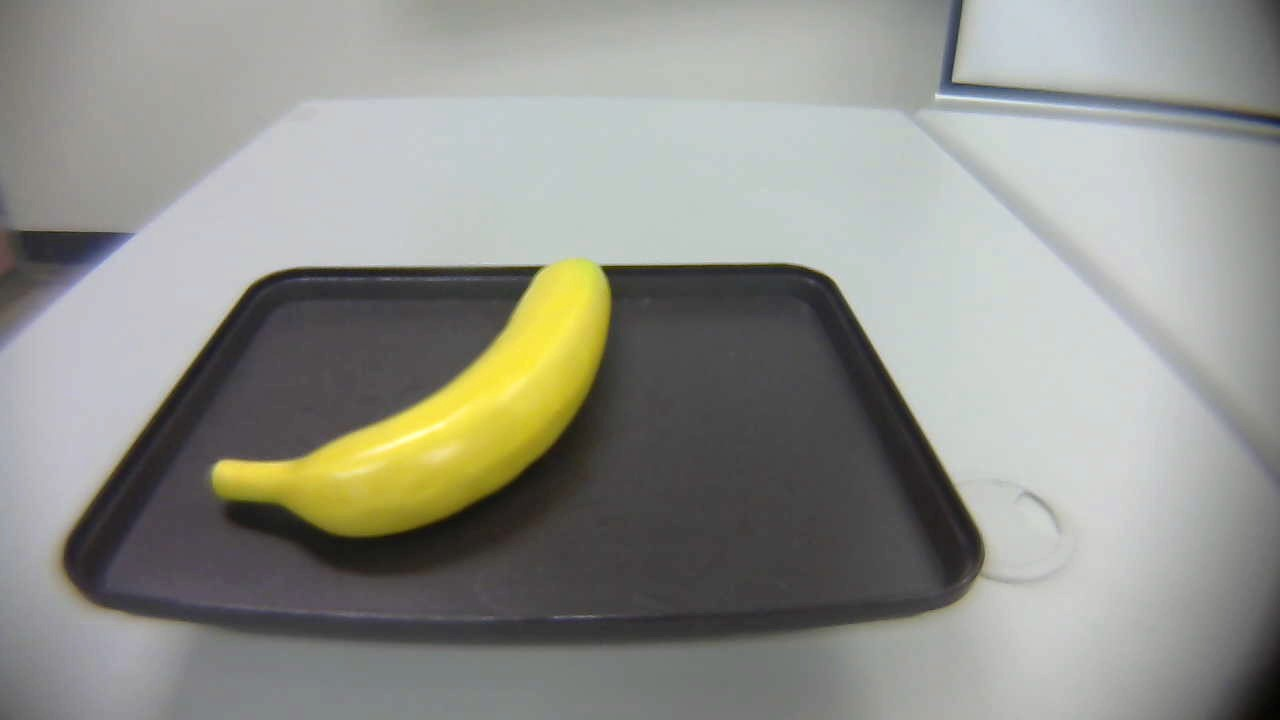banana: (209, 250, 626, 561)
